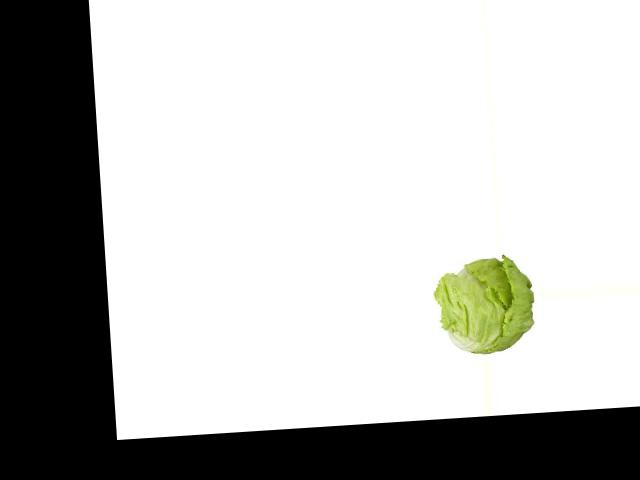lettuce: (435, 254, 537, 359)
